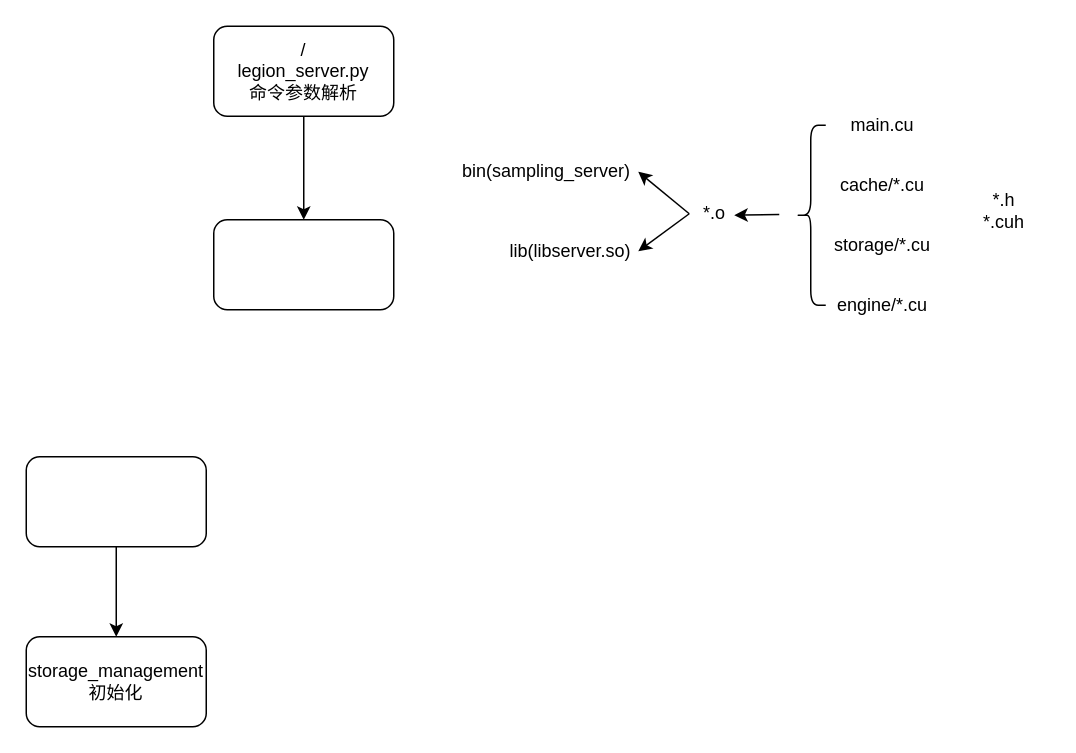
Some shapes in this 1076 by 753 pixel diagram are drawn without their labels. Here are the shapes that lost their labels. From the top down, the centre of each, then its label:
At point 303,264: "sampling_server main.cu".
At point 115,501: "gpu server 初始化".
